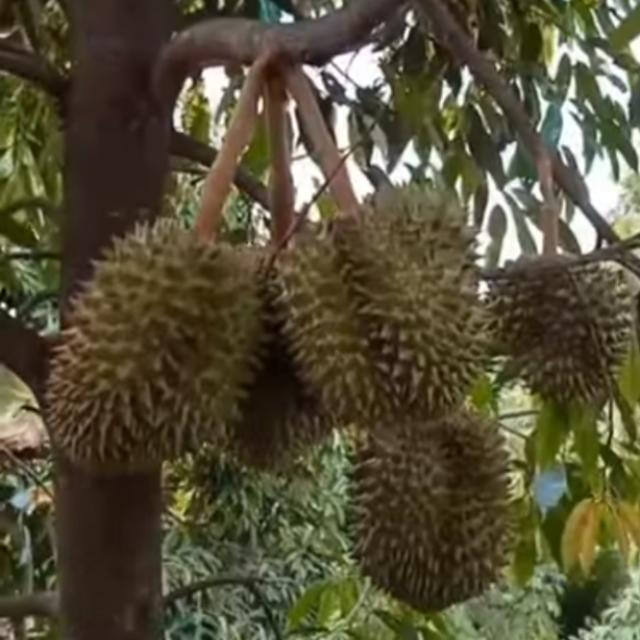mature: (43, 210, 265, 477), (272, 189, 491, 423), (352, 391, 517, 611), (488, 252, 630, 397)
